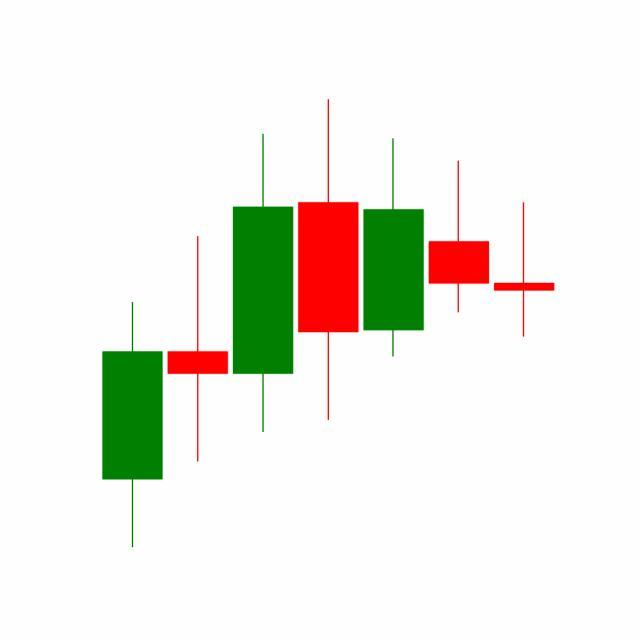Hikkake Pattern: (229, 99, 555, 437)
